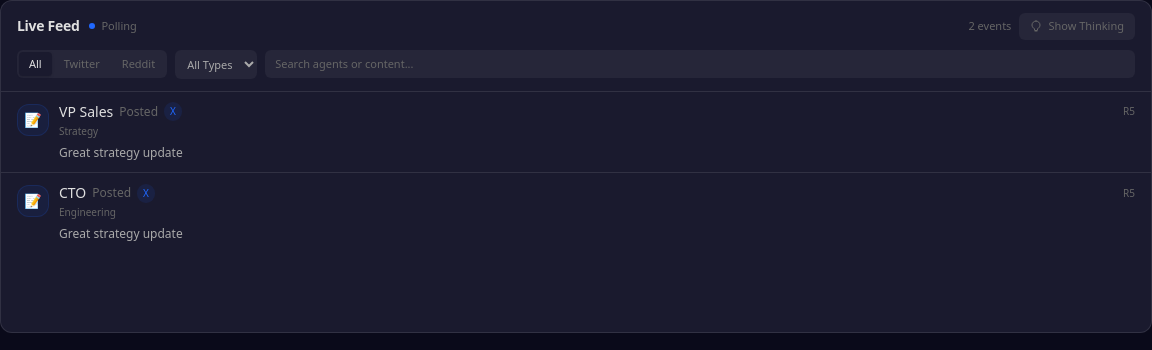
Test: LiveFeed › filters by search query matching agent name
In the field with placeholder "Search agents or content...": (700, 64) top-left (265, 50), bottom-right (1135, 78), type "VP Sales"
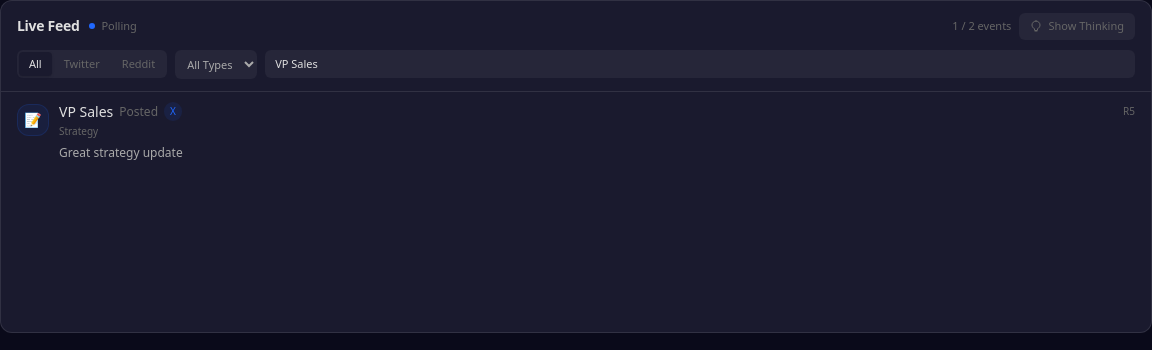
Expected: the text "VP Sales" is shown, top-left (59, 102), bottom-right (113, 122)
Now the text "CTO" is gone
